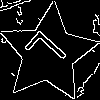L: (23, 28, 75, 80)
